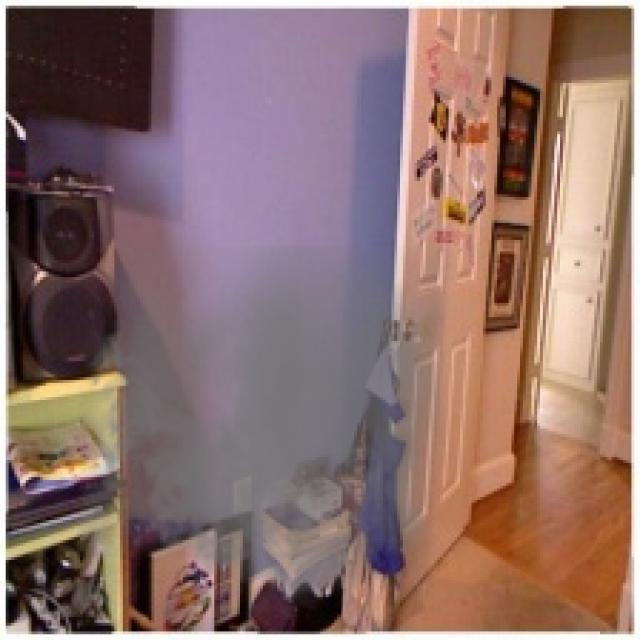smoke: (77, 246, 446, 620)
